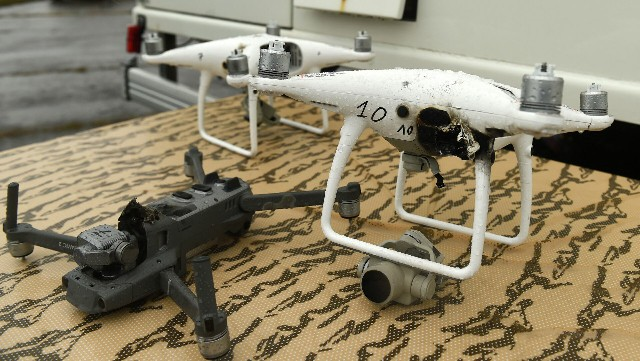maybay_khongnguoilai: (206, 27, 626, 249), (13, 158, 353, 344), (124, 19, 382, 162)
